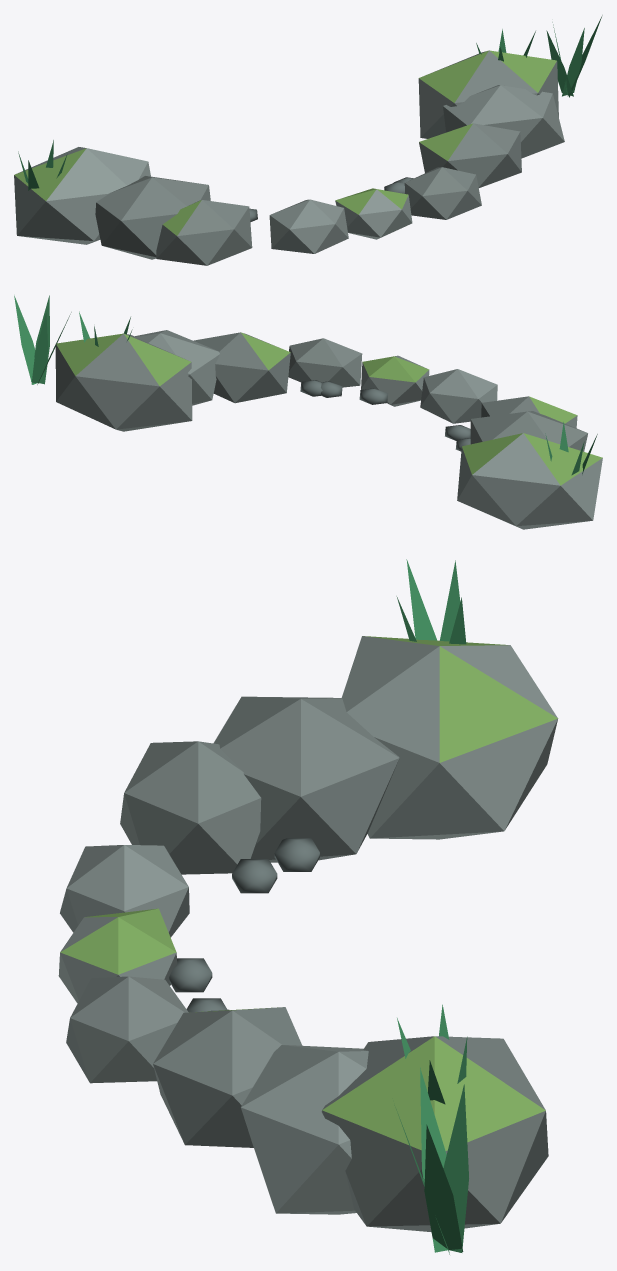
Rendered from splash_rim.glb.
The picture shows the model from 3 angles, top to bottom: view 1: azimuth 30°, elevation 25°; view 2: azimuth 150°, elevation 25°; view 3: azimuth 270°, elevation 25°; orthographic projection. The views are drawn at different scales.
Parts seen in each view (by area): view 1: body, body_nh; view 2: body, body_nh; view 3: body, body_nh.
Part boxes in pixels (x1,y1,x2,y2): body: [14, 50, 564, 265]; body_nh: [18, 15, 602, 190]; body: [55, 330, 602, 529]; body_nh: [14, 295, 597, 475]; body: [58, 636, 558, 1232]; body_nh: [394, 559, 468, 1254].
Bounding box in the file's own units: 3.54 × 0.6315 × 1.31.
